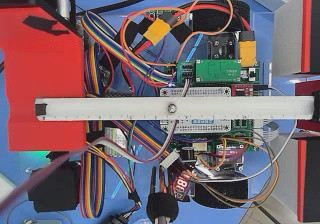ironball: (166, 103, 176, 113)
